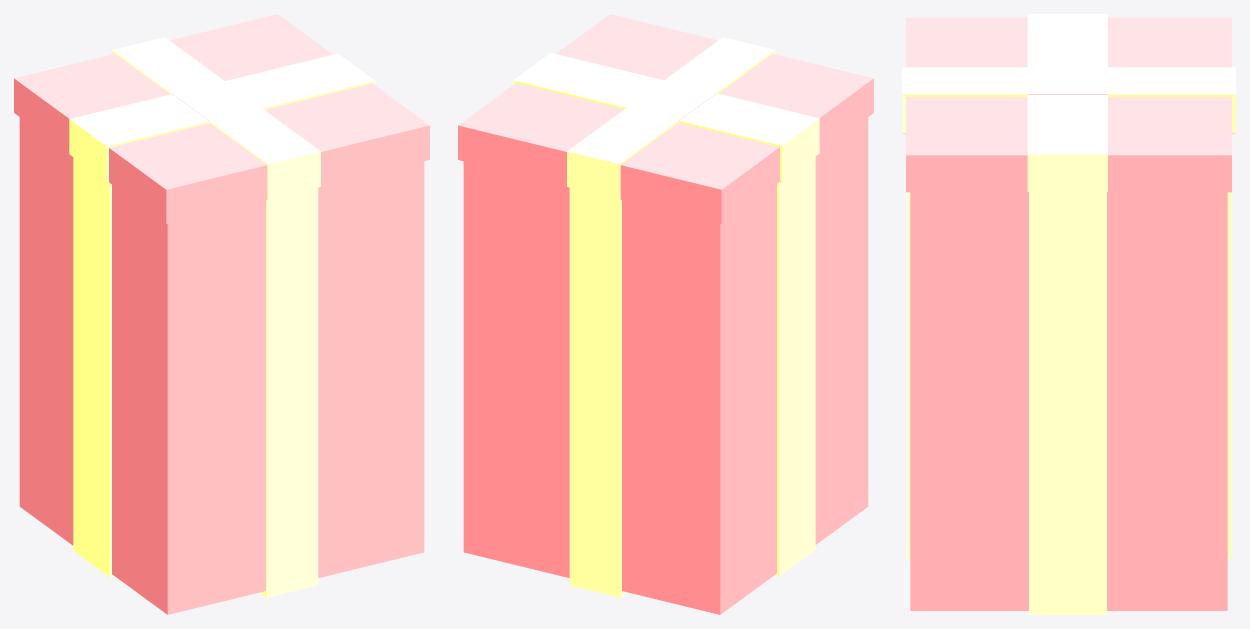
Rendered from gift1.gltf.
3 views of the same model, side by side, from view 1: azimuth 30°, elevation 25°; view 2: azimuth 150°, elevation 25°; view 3: azimuth 270°, elevation 25° (orthographic). The views are drawn at different scales.
Parts seen in each view (by area): view 1: Cube.032, Cube.033; view 2: Cube.032, Cube.033; view 3: Cube.032, Cube.033.
Part boxes in pixels (<box>): Cube.032: <box>14,14,429,614</box>; Cube.033: <box>69,37,375,597</box>; Cube.032: <box>458,14,873,614</box>; Cube.033: <box>513,37,819,597</box>; Cube.032: <box>903,17,1234,610</box>; Cube.033: <box>902,14,1235,614</box>.
Size of the model in its own units: 0.3973 by 0.6186 by 0.3993.
